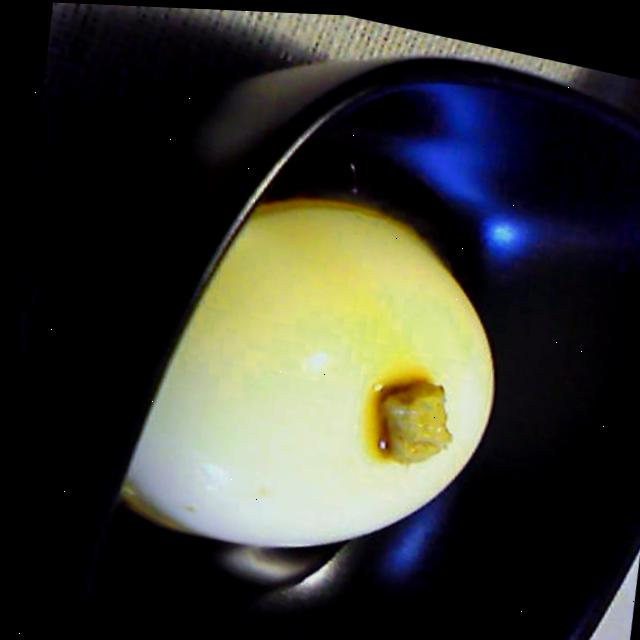豆腐料理: (95, 152, 531, 596)
